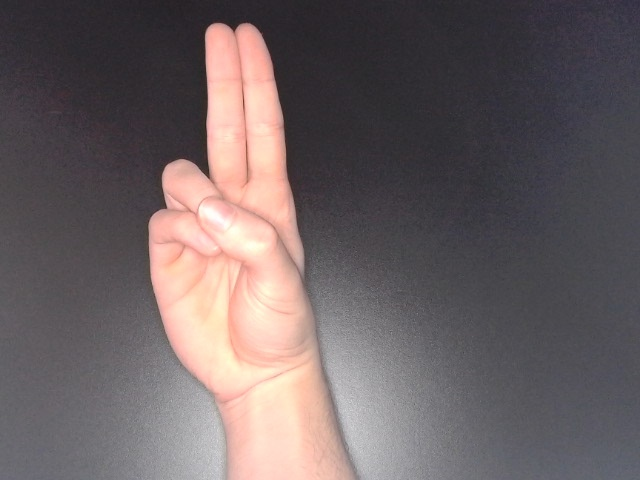r: (142, 19, 325, 419)
